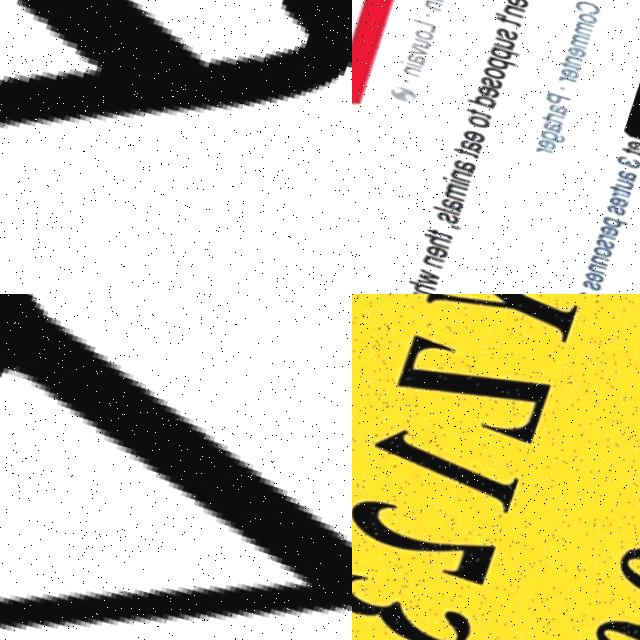1: (352, 409, 551, 526)
2: (352, 474, 524, 596)
3: (352, 542, 502, 640)
8: (582, 516, 640, 640)
V: (0, 294, 352, 640)
Y: (0, 0, 352, 294)
